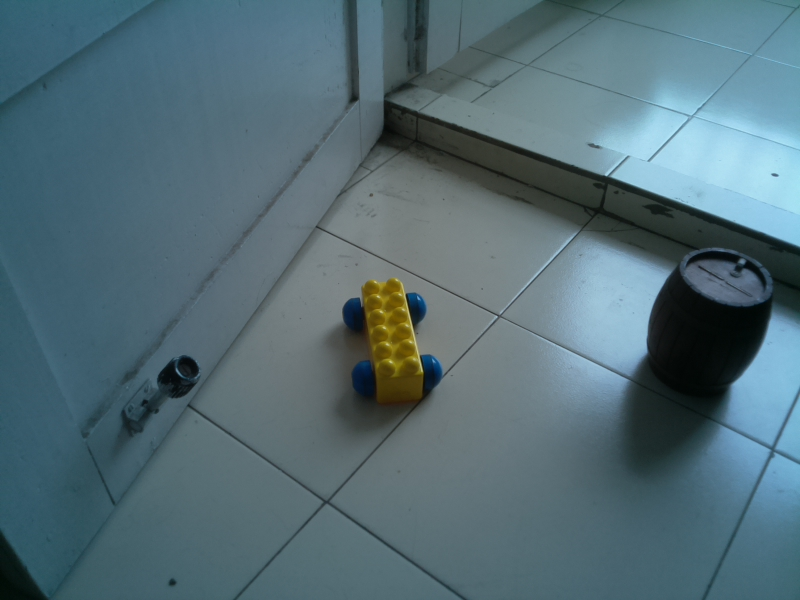toy_Car: (333, 270, 455, 412)
